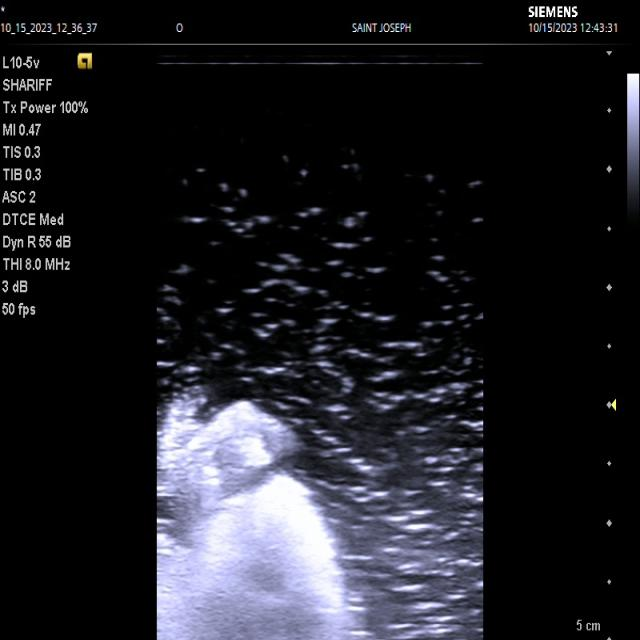tissue: (158, 394, 352, 640)
